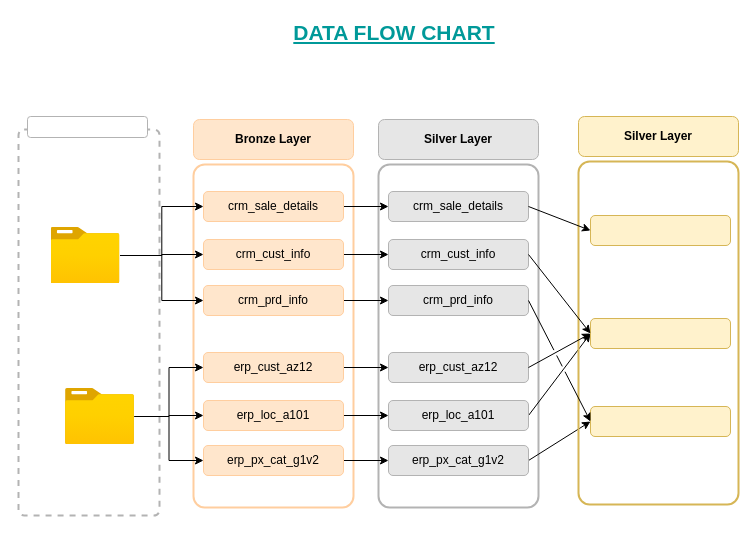
Image size: 756x533. Some labels were removed from this diagram. Here are the shapes that lost their labels. From the top down, the box of each, then its label:
(26, 116, 148, 138): Sources
(590, 214, 730, 246): fact_sales
(50, 227, 120, 283): CRM
(590, 318, 730, 348): dim_customers
(65, 388, 134, 444): ERP
(590, 406, 730, 436): dim_products
